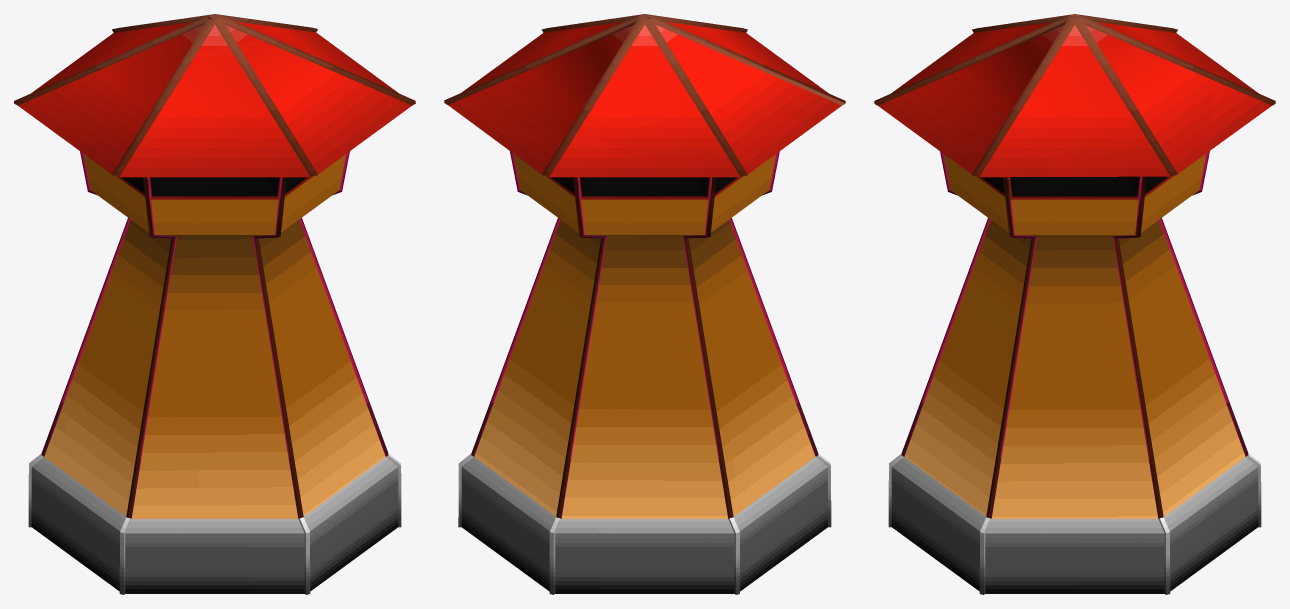
The model's file is ArcherTowerCol.fbx.
3 views of the same model, side by side, from view 1: azimuth 30°, elevation 25°; view 2: azimuth 150°, elevation 25°; view 3: azimuth 270°, elevation 25° (orthographic).
Visible parts, largest first — view 1: Hexagon.001; view 2: Hexagon.001; view 3: Hexagon.001.
Part boxes in pixels (x1,y1,x2,y2): Hexagon.001: (14, 14, 415, 594); Hexagon.001: (444, 14, 845, 594); Hexagon.001: (874, 14, 1275, 594).
Size of the model in its own units: 99.65 by 160 by 114.
